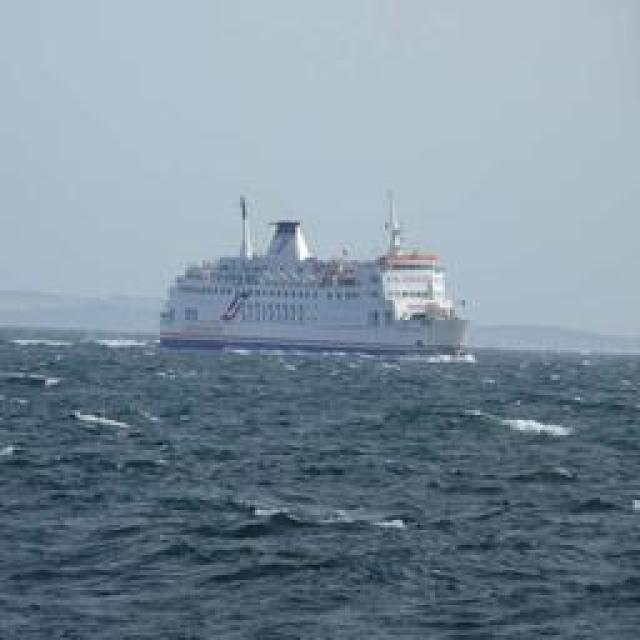CIV_Ship: (158, 191, 478, 361)
